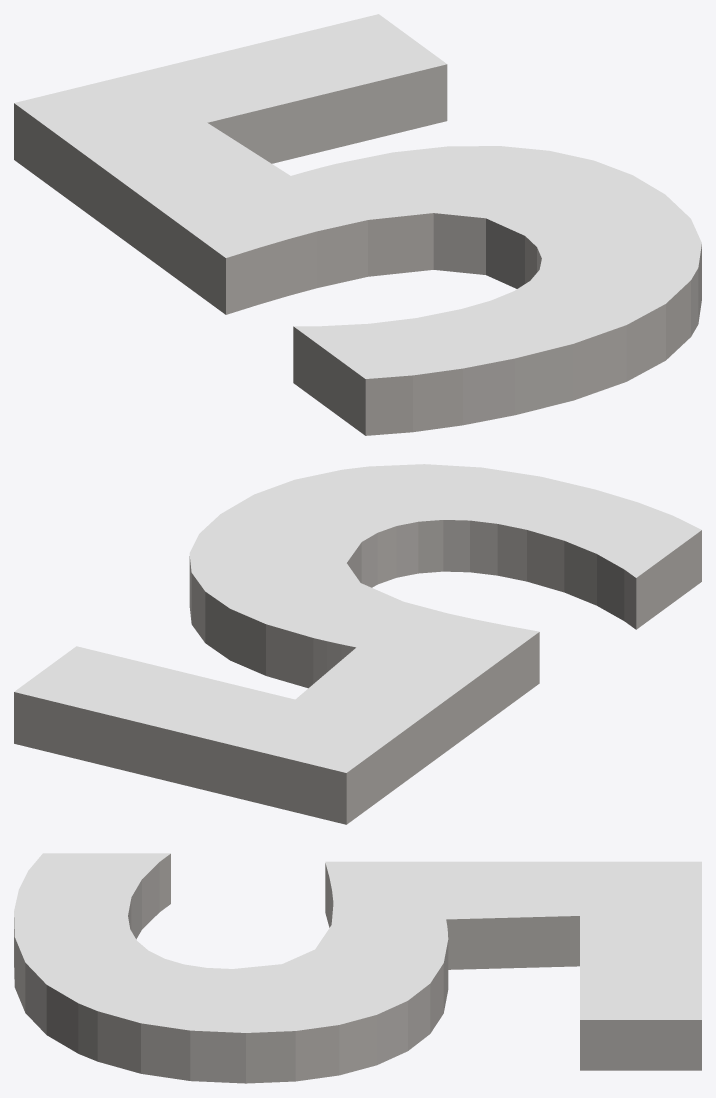
The model's file is shuzi05.FBX.
3 renders of one model, top to bottom at view 1: azimuth 30°, elevation 25°; view 2: azimuth 150°, elevation 25°; view 3: azimuth 270°, elevation 25°, orthographic. The views are drawn at different scales.
Visible parts, largest first — view 1: shuzi05; view 2: shuzi05; view 3: shuzi05.
Part boxes in pixels (bbox=[...]): shuzi05: bbox=[14, 14, 701, 435]; shuzi05: bbox=[14, 464, 701, 824]; shuzi05: bbox=[14, 853, 701, 1083].
Bounding box in the file's own units: 68.26 × 8.95 × 111.
